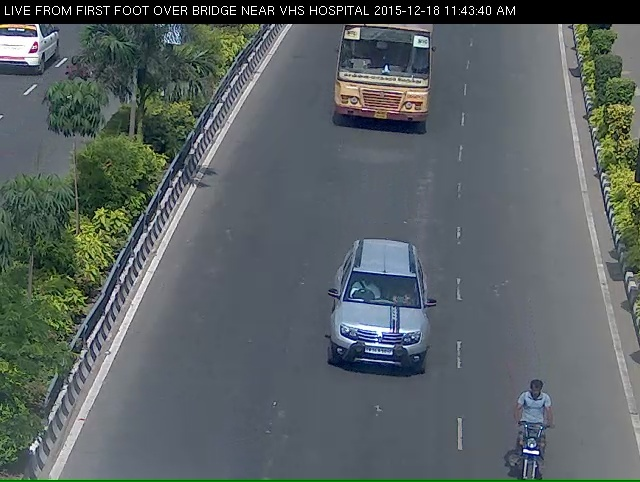Bus: (322, 17, 448, 150)
Car: (319, 241, 442, 402)
Person: (514, 390, 555, 479)
